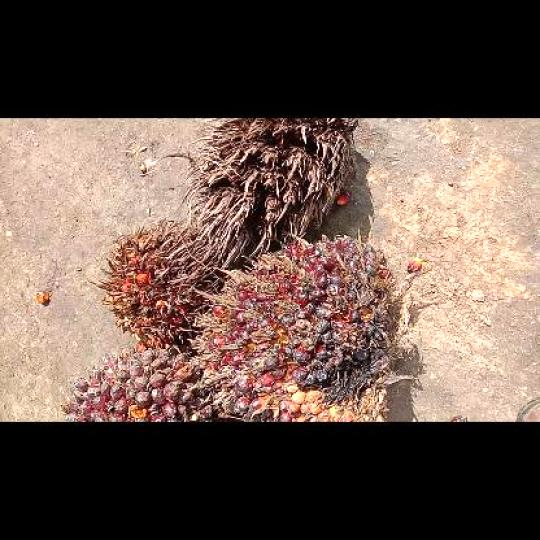kurang masak: (58, 345, 215, 421)
masak: (187, 229, 421, 420)
terlalu masak: (90, 220, 224, 351)
